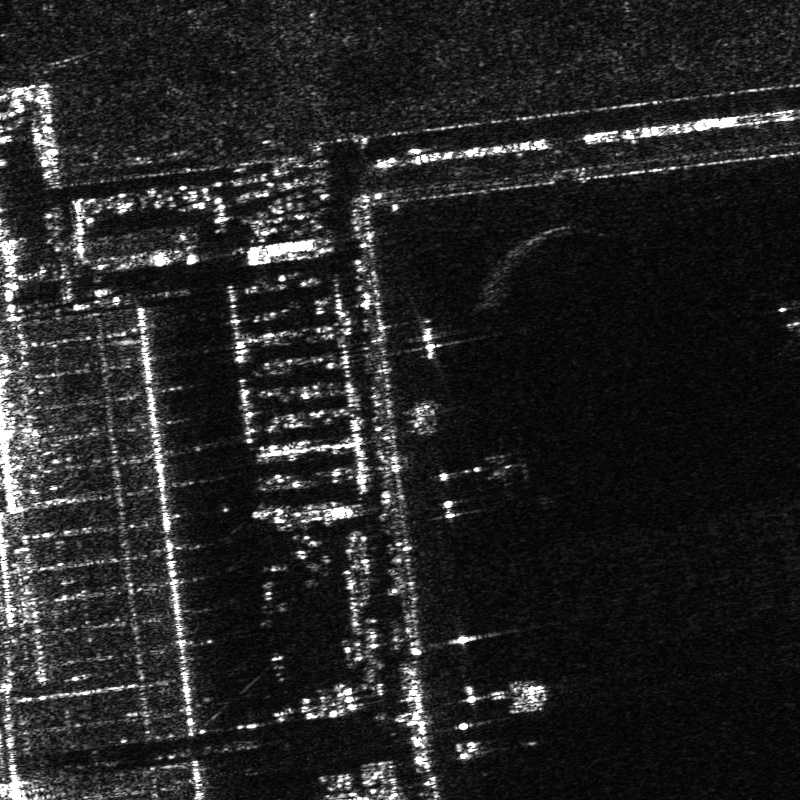A220: (776, 308, 799, 360)
